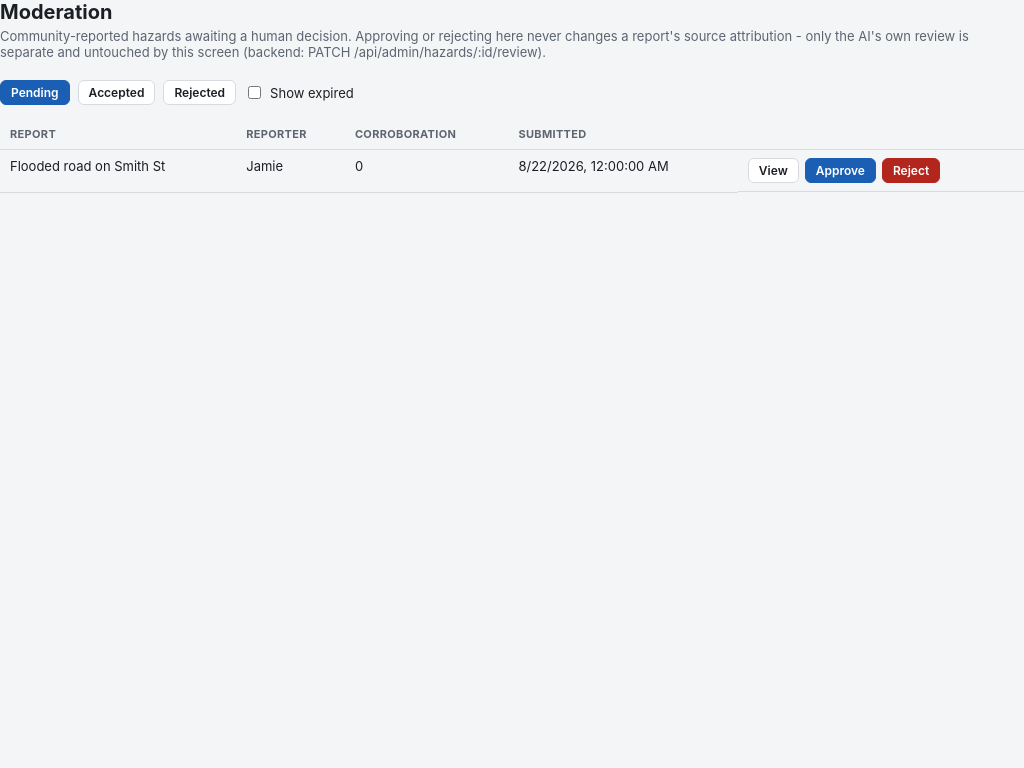
ModerationPage › requires a reason before a reject confirms
Expected: the text "Flooded road on Smith St" is shown, 0,150 -> 236,192
Click the button "Reject" at (911, 170), box 882,158 -> 940,183
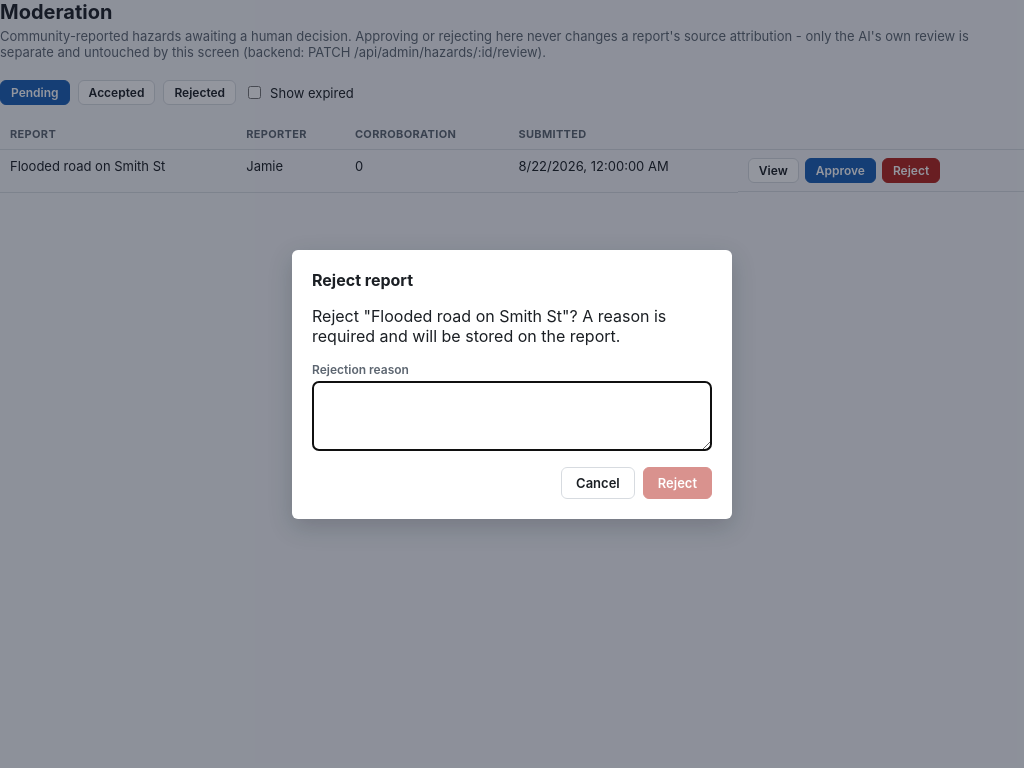
Expected: the button "Reject" is disabled, 643,466 -> 712,498
Type "Duplicate report" into the text box labelled "Rejection reason" at (512, 416), box 312,380 -> 712,450
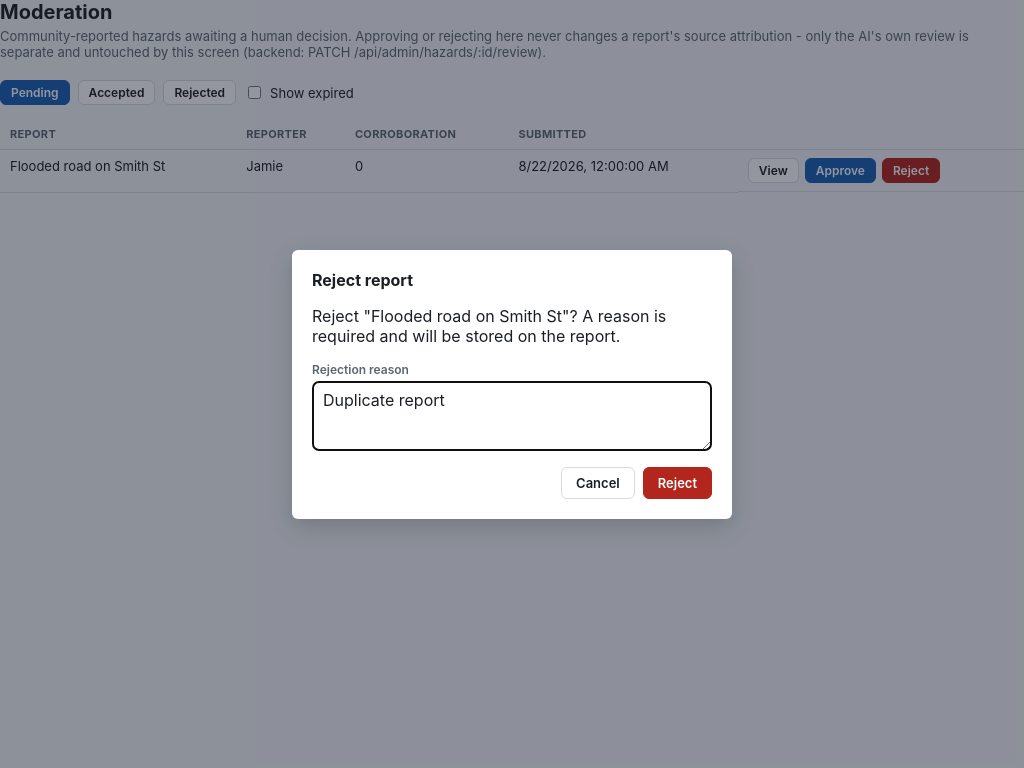
Expected: the button "Reject" is enabled, 643,466 -> 712,498
